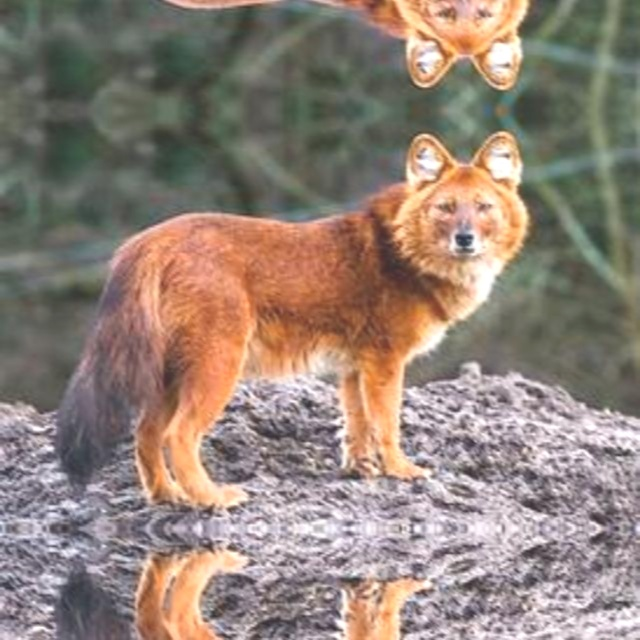dog: (106, 144, 552, 362), (105, 0, 552, 76)
